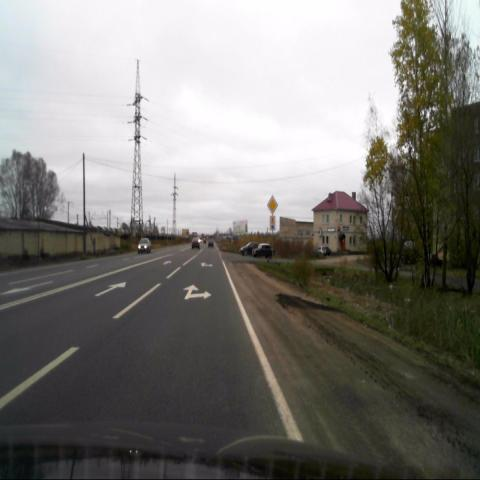2_1: (267, 194, 278, 214)
